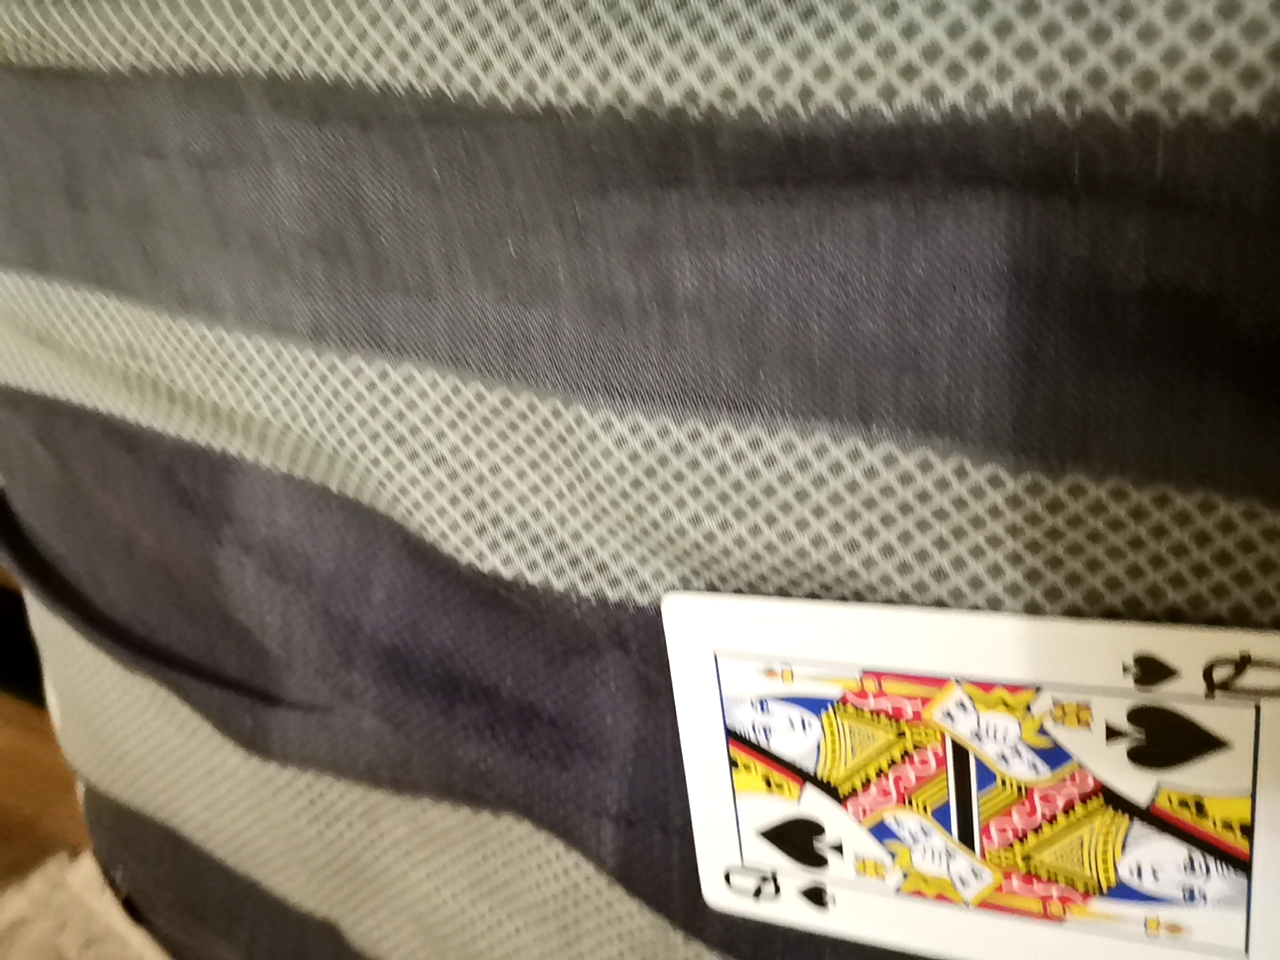ht q: (660, 600, 1269, 955)
